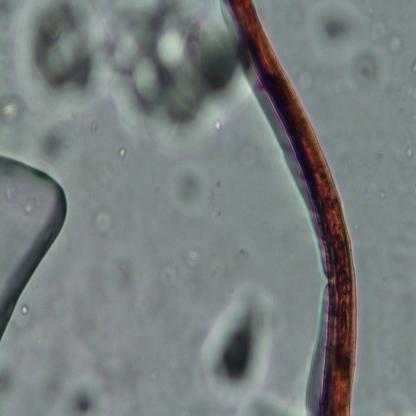Air bubble: (0, 155, 68, 345)
Background material: (112, 1, 238, 144), (16, 0, 114, 119), (201, 284, 270, 403), (72, 252, 132, 338), (75, 336, 145, 403), (174, 225, 223, 282), (308, 2, 362, 53), (377, 344, 416, 414), (28, 113, 79, 163), (134, 262, 178, 310), (169, 163, 210, 213), (156, 365, 198, 413), (360, 13, 410, 52), (223, 134, 263, 170), (0, 345, 23, 403), (353, 50, 383, 92), (0, 86, 28, 130), (67, 374, 99, 412), (89, 208, 114, 242), (0, 0, 20, 33), (296, 64, 316, 92), (236, 235, 253, 264), (398, 142, 416, 160), (114, 141, 128, 161), (20, 299, 31, 317), (378, 184, 386, 200), (90, 119, 99, 132), (410, 58, 416, 75)
Cotton: (220, 0, 356, 416)
